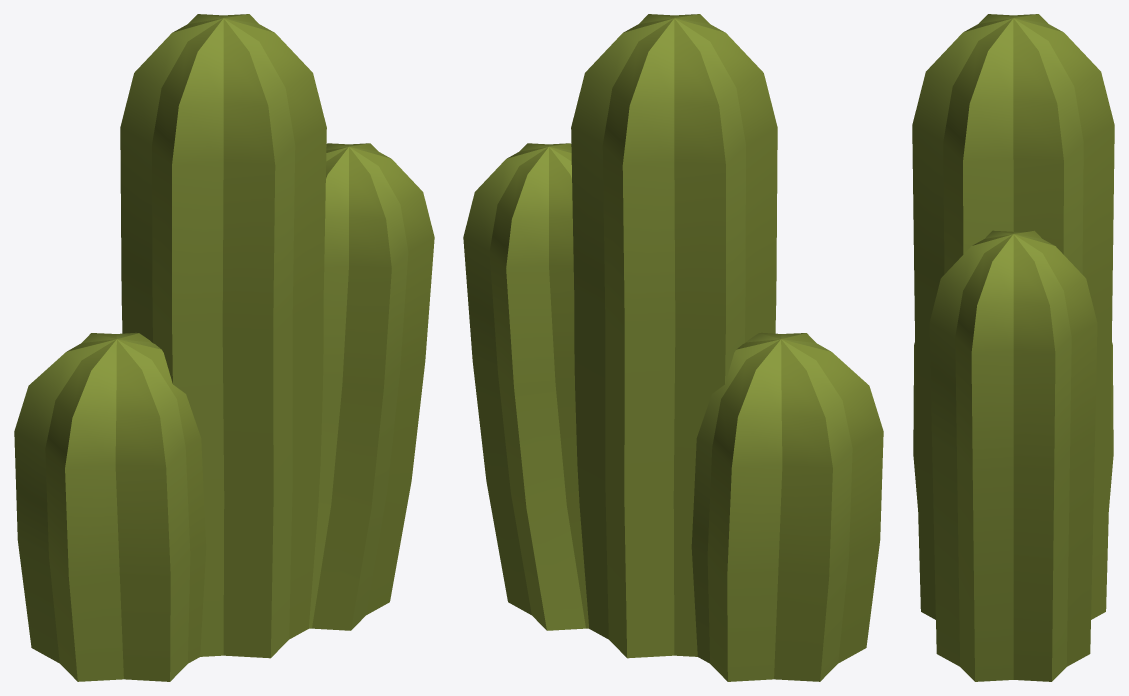
File: tree04.fbx
3 renders of one model, left to right at view 1: azimuth 30°, elevation 25°; view 2: azimuth 150°, elevation 25°; view 3: azimuth 270°, elevation 25°, orthographic.
Parts seen in each view (by area): view 1: tree04; view 2: tree04; view 3: tree04.
Part boxes in pixels (x1,y1,x2,y2): tree04: [14, 14, 434, 681]; tree04: [463, 14, 883, 681]; tree04: [912, 14, 1114, 681].
Size of the model in its own units: 1.34 by 2.07 by 0.64.
